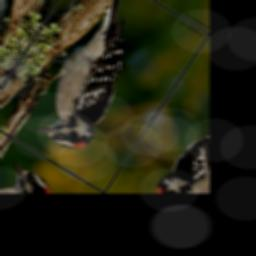Woodpecker: (11, 0, 174, 159)
